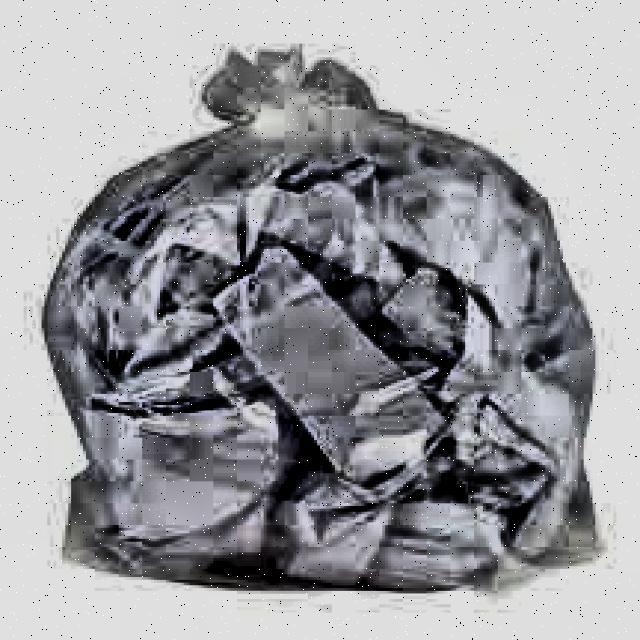Trashbag: (34, 94, 612, 600)
